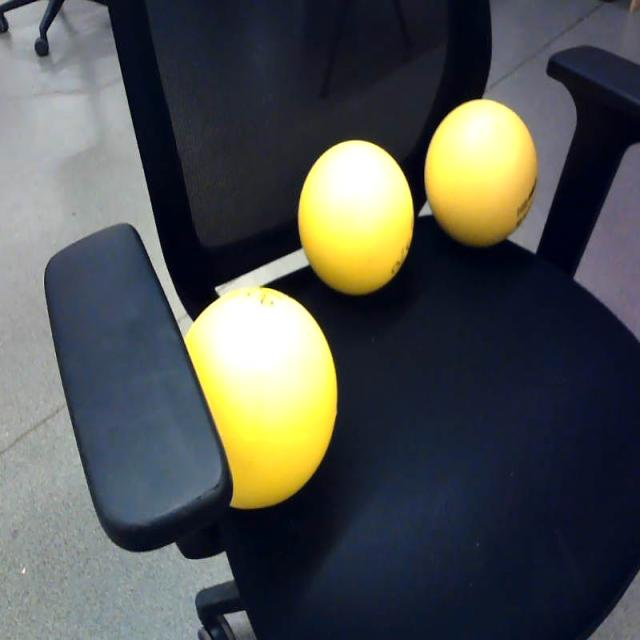Fuel: (176, 286, 338, 510), (298, 138, 414, 294), (425, 100, 538, 245)
